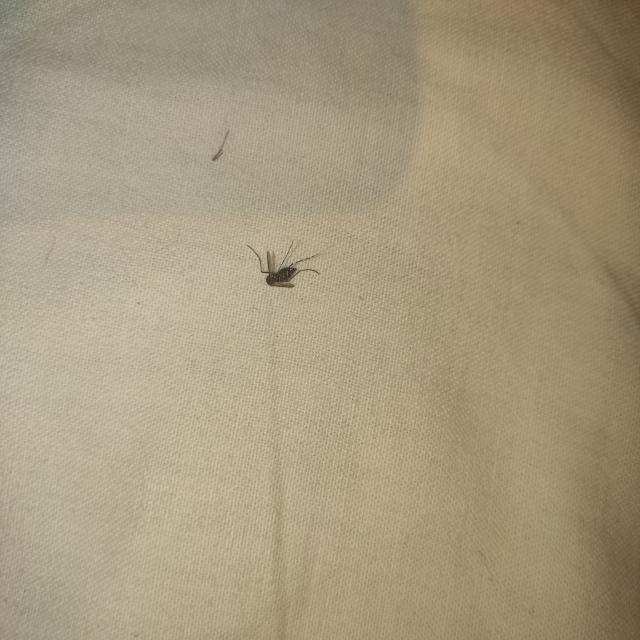albopictus: (246, 233, 324, 293)
